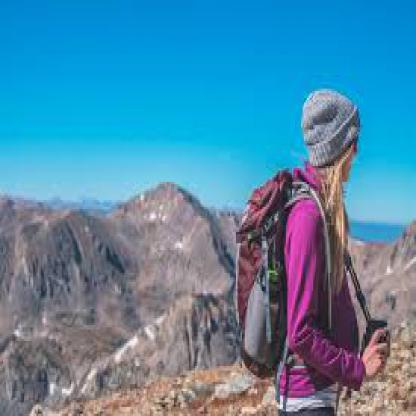morral: (219, 168, 309, 384)
